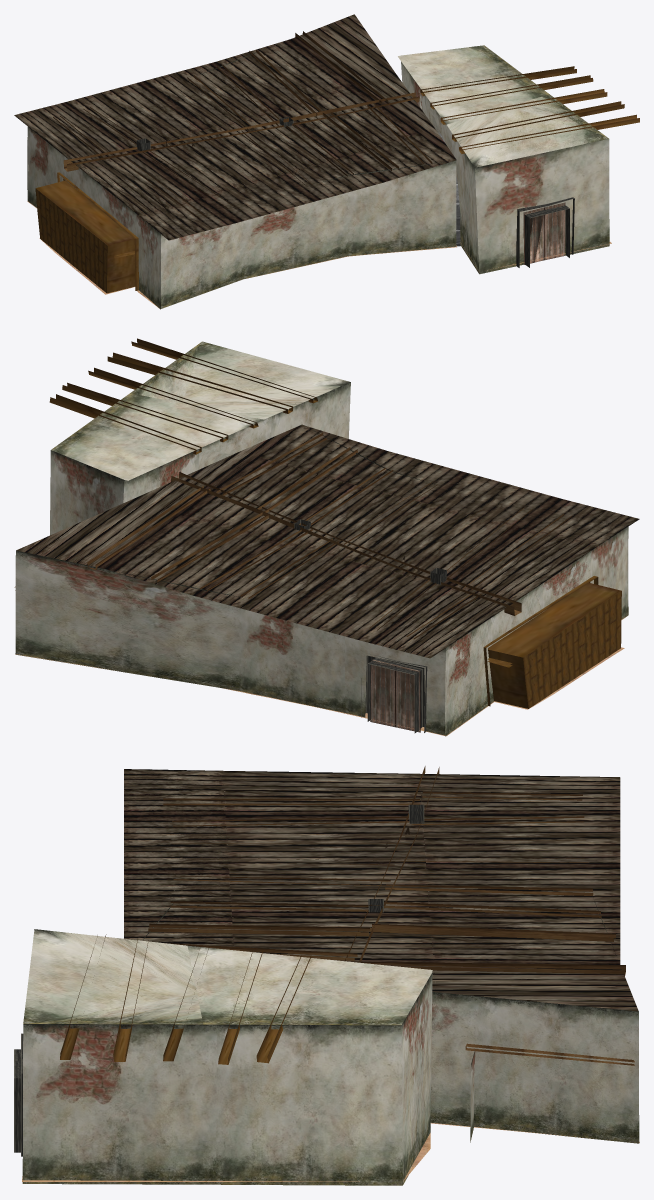
The model's file is interior_tavern.fbx.
The picture shows the model from 3 angles, top to bottom: view 1: azimuth 30°, elevation 25°; view 2: azimuth 150°, elevation 25°; view 3: azimuth 270°, elevation 25°; orthographic projection. The views are drawn at different scales.
Visible parts, largest first — view 1: ceiling, TavernWall, tavern_hall_wall, Ceiling2, alcoveB, wood_planks, bar_wallB, door_hole, door_frame, beam_21, beam_22, beam_25 (+4 smaller); view 2: ceiling, TavernWall, Ceiling2, alcoveB, tavern_hall_wall, bar_wallB, wood_planks, door_hole_2, door_frame_2, beam_22, beam_19, beam_20 (+3 smaller); view 3: ceiling, tavern_hall_wall, Ceiling2, TavernWall, wood_planks, alcove_roof, door_frame, beam_19, floor_entrance, beam_22, beam_20.
Part boxes in pixels (x1,y1,x2,y2): ceiling: (14, 14, 456, 240); TavernWall: (27, 44, 456, 308); tavern_hall_wall: (401, 61, 609, 274); Ceiling2: (398, 45, 608, 167); alcoveB: (35, 172, 138, 293); wood_planks: (53, 31, 432, 218); bar_wallB: (27, 126, 160, 309); door_hole: (523, 202, 565, 264); door_frame: (516, 197, 574, 267); beam_21: (459, 114, 639, 153); beam_22: (452, 101, 624, 141); beam_25: (440, 89, 607, 124); ceiling: (16, 424, 639, 658); TavernWall: (15, 424, 627, 735); Ceiling2: (51, 341, 350, 480); alcoveB: (483, 576, 621, 708); tavern_hall_wall: (50, 382, 350, 535); bar_wallB: (445, 526, 628, 736); wood_planks: (87, 433, 572, 639); door_hole_2: (370, 661, 420, 732); door_frame_2: (361, 652, 427, 733); beam_22: (107, 352, 292, 413); beam_19: (49, 394, 201, 454); beam_20: (62, 382, 228, 442); ceiling: (124, 769, 638, 1011); tavern_hall_wall: (22, 972, 432, 1185); Ceiling2: (23, 929, 432, 1025); TavernWall: (142, 890, 639, 1143); wood_planks: (148, 766, 625, 975); alcove_roof: (465, 1043, 634, 1065); door_frame: (14, 1033, 23, 1156); beam_19: (256, 955, 311, 1063); floor_entrance: (22, 1133, 430, 1181); beam_22: (113, 939, 148, 1061); beam_20: (218, 950, 262, 1064).
Size of the model in its own units: 12021 by 2626 by 9075.
Materials: 3 (3 with a texture image).
